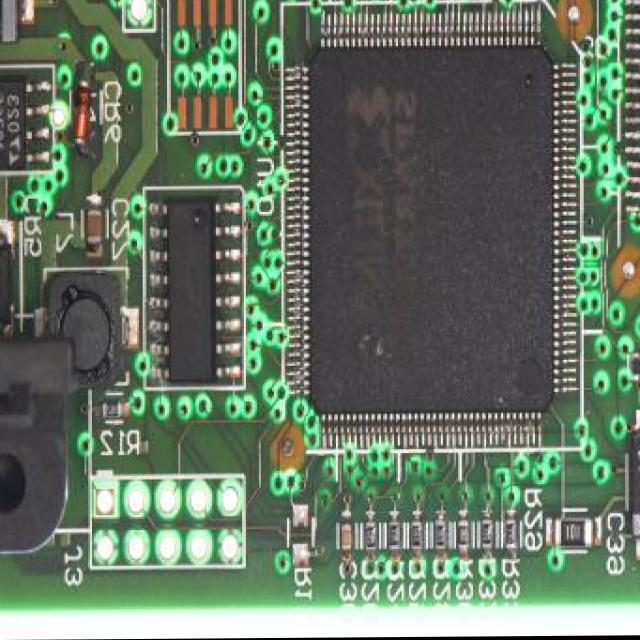IC: (304, 39, 557, 421), (165, 192, 219, 384), (0, 73, 28, 173)
capacitor: (628, 435, 640, 540), (0, 0, 23, 45), (86, 207, 104, 247), (340, 521, 352, 554)
diode: (69, 74, 93, 150), (0, 231, 13, 334)
inductor: (43, 269, 122, 395)
resistor: (554, 516, 594, 551), (101, 398, 123, 420), (388, 520, 402, 553), (505, 517, 518, 551), (481, 518, 494, 551), (458, 520, 471, 553), (364, 520, 377, 553), (411, 520, 424, 553), (436, 518, 448, 551), (630, 351, 640, 383)
